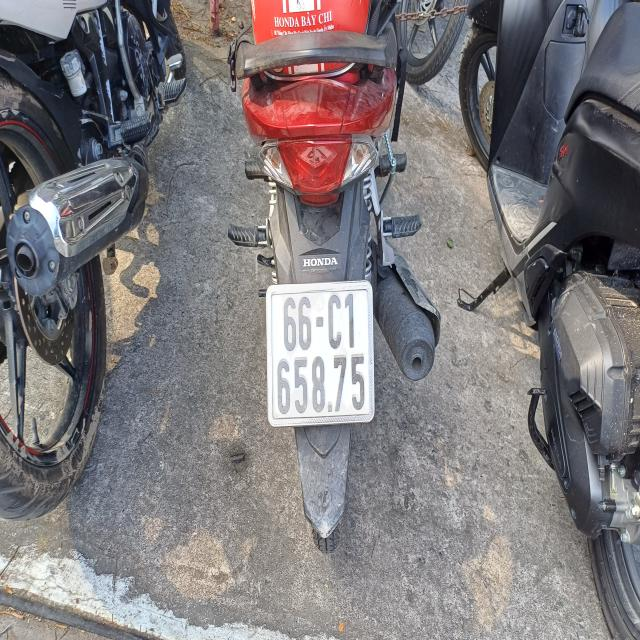1: (344, 294, 358, 352)
5: (351, 352, 367, 413), (293, 356, 309, 414)
6: (283, 293, 298, 354), (276, 359, 292, 416), (298, 296, 313, 352)
7: (333, 354, 348, 411)
8: (312, 357, 326, 412)
C: (328, 289, 343, 350)
